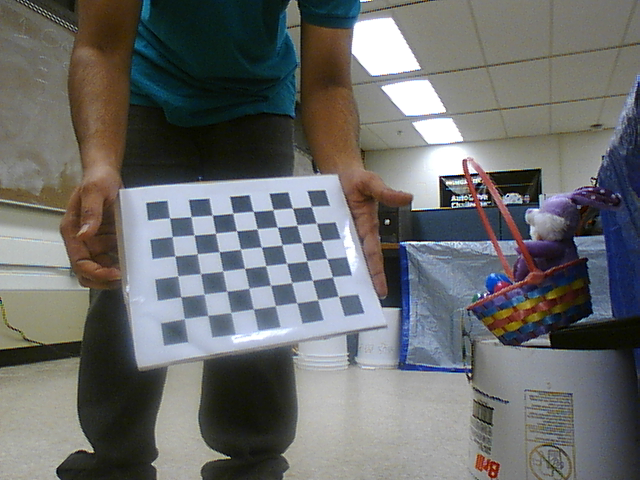bunny: (451, 148, 602, 348)
